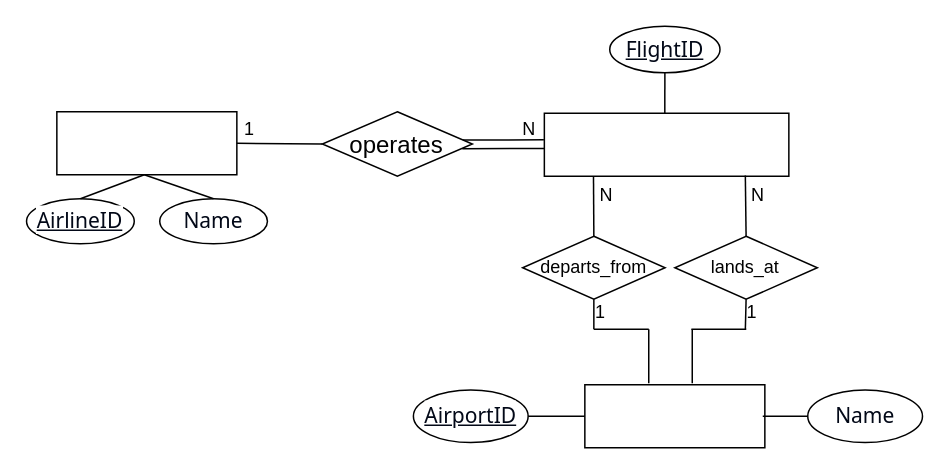
The diagram is 950 pixels wide and 474 high, and some of its shapes have lost their labels. The box of each missing label's shape, as (x1, y1, x2, y2) in pixels:
Airline: (55, 110, 237, 175)
Airport: (583, 383, 765, 448)
Flight: (543, 112, 789, 176)
